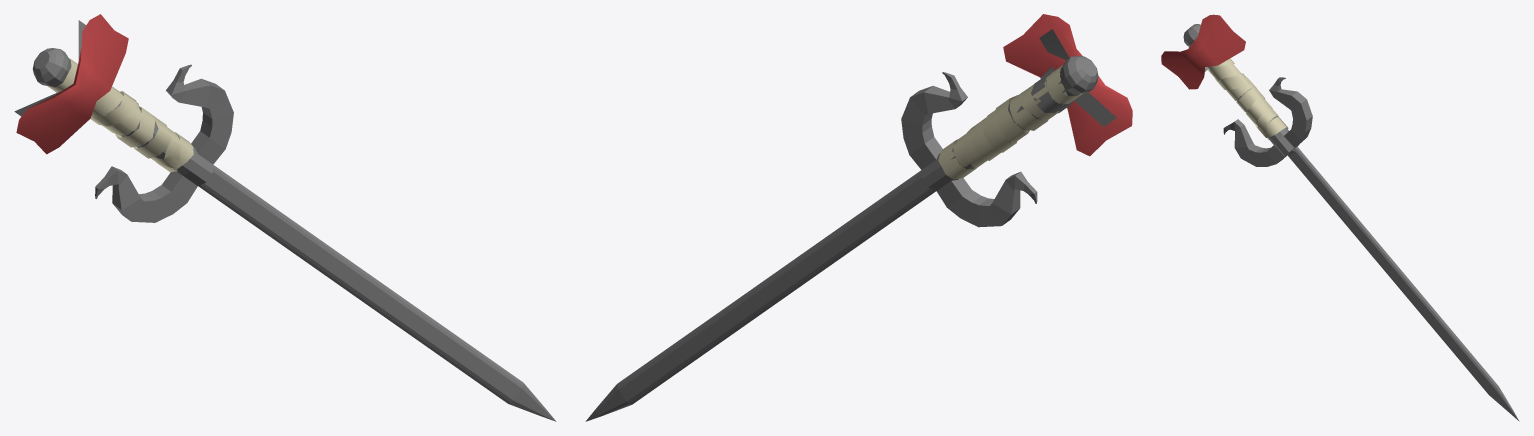
Rendered from Sword.obj.
3 views of the same model, side by side, from view 1: azimuth 30°, elevation 25°; view 2: azimuth 150°, elevation 25°; view 3: azimuth 330°, elevation 25° (orthographic). The views are drawn at different scales.
Visible parts, largest first — view 1: polySurface13; view 2: polySurface13; view 3: polySurface13.
Boxes of the visible parts, <box> form: polySurface13: <box>14,14,556,421</box>; polySurface13: <box>585,14,1132,421</box>; polySurface13: <box>1161,14,1519,421</box>.
Bounding box in the file's own units: 59.44 × 54.27 × 5.72.
